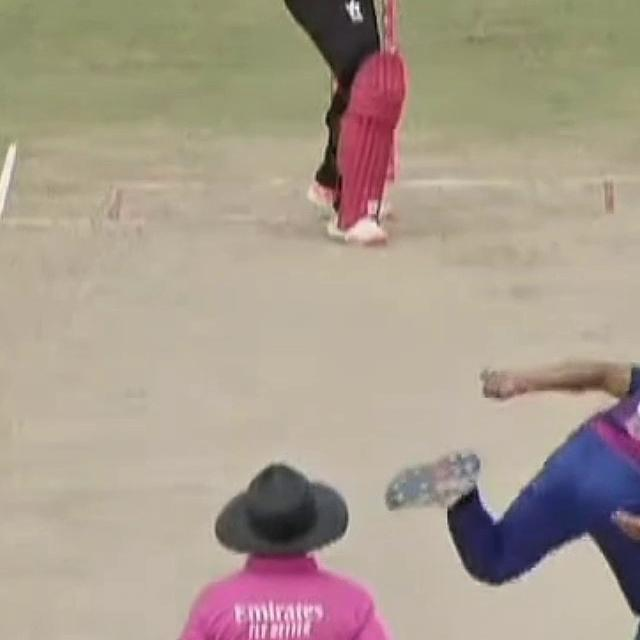umpire: (105, 435, 433, 640), (114, 440, 416, 640)
